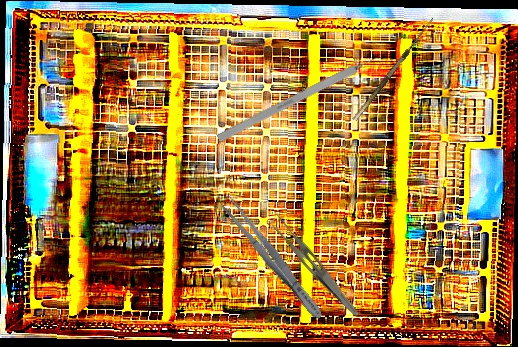Dressing Forceps: (219, 196, 328, 324), (263, 211, 370, 318)
Hook Surgical: (216, 48, 389, 143), (347, 13, 436, 122)
